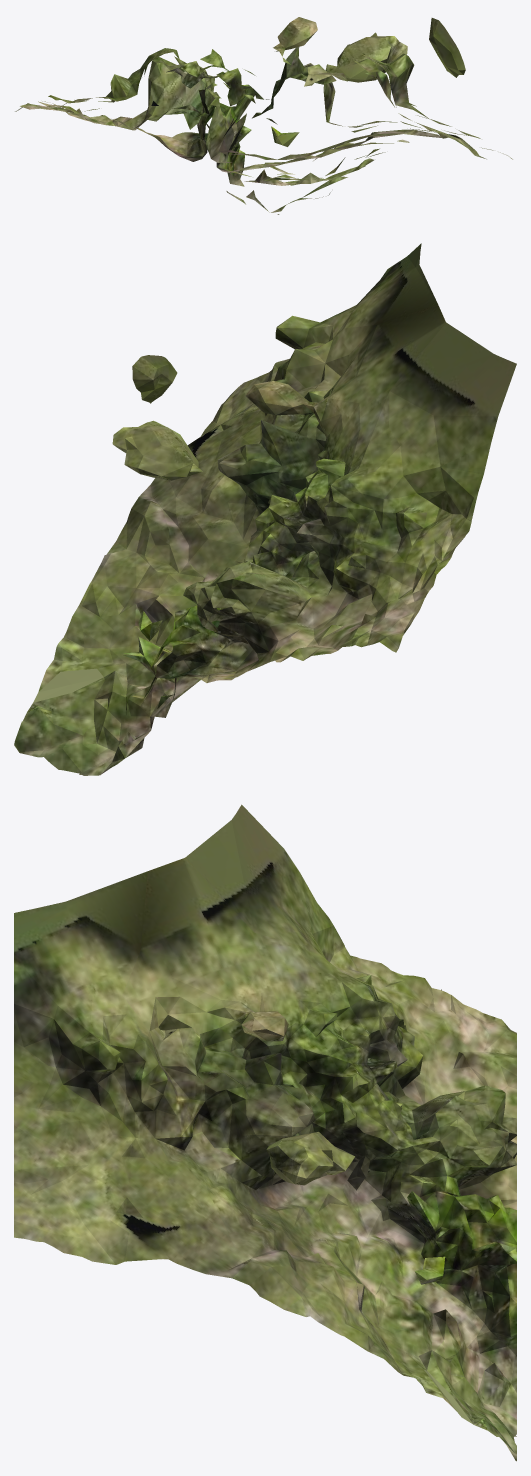
3 views of the same model, one above another, from view 1: azimuth 30°, elevation 25°; view 2: azimuth 150°, elevation 25°; view 3: azimuth 270°, elevation 25° (orthographic). The views are drawn at different scales.
Bounding box in the file's own units: 26.11 × 26.11 × 26.11.
4 materials, 4 textured.
